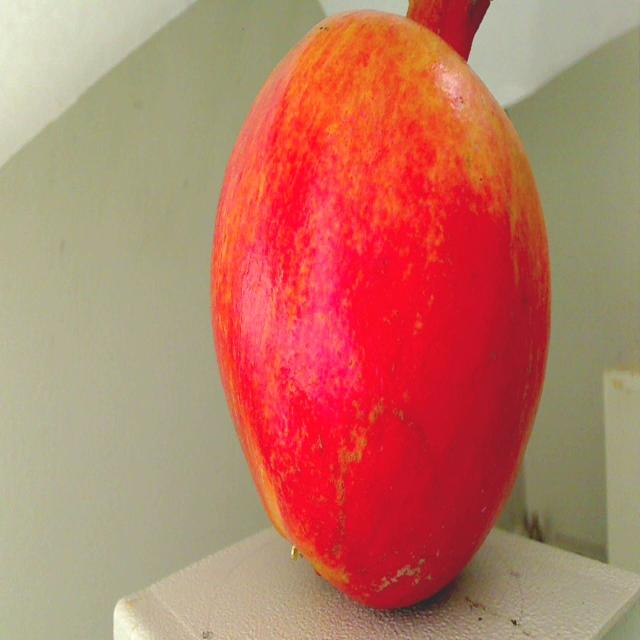pomegranate: (197, 0, 565, 617)
